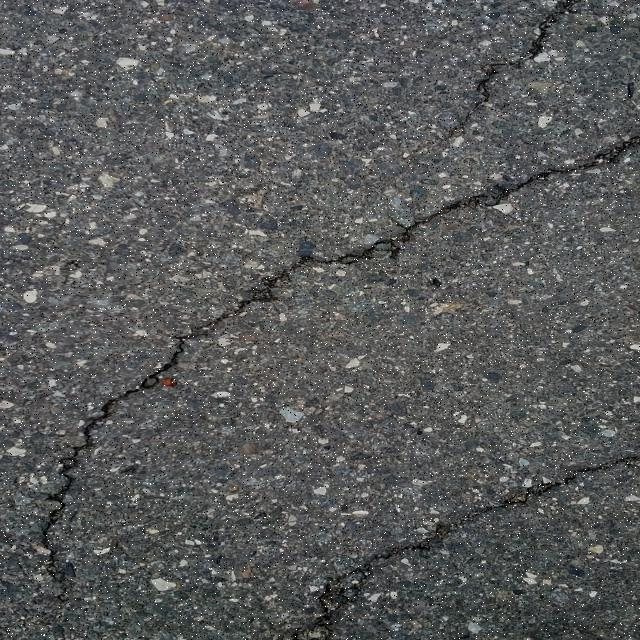Crack: (37, 133, 640, 601), (290, 456, 640, 640), (449, 0, 581, 136)
